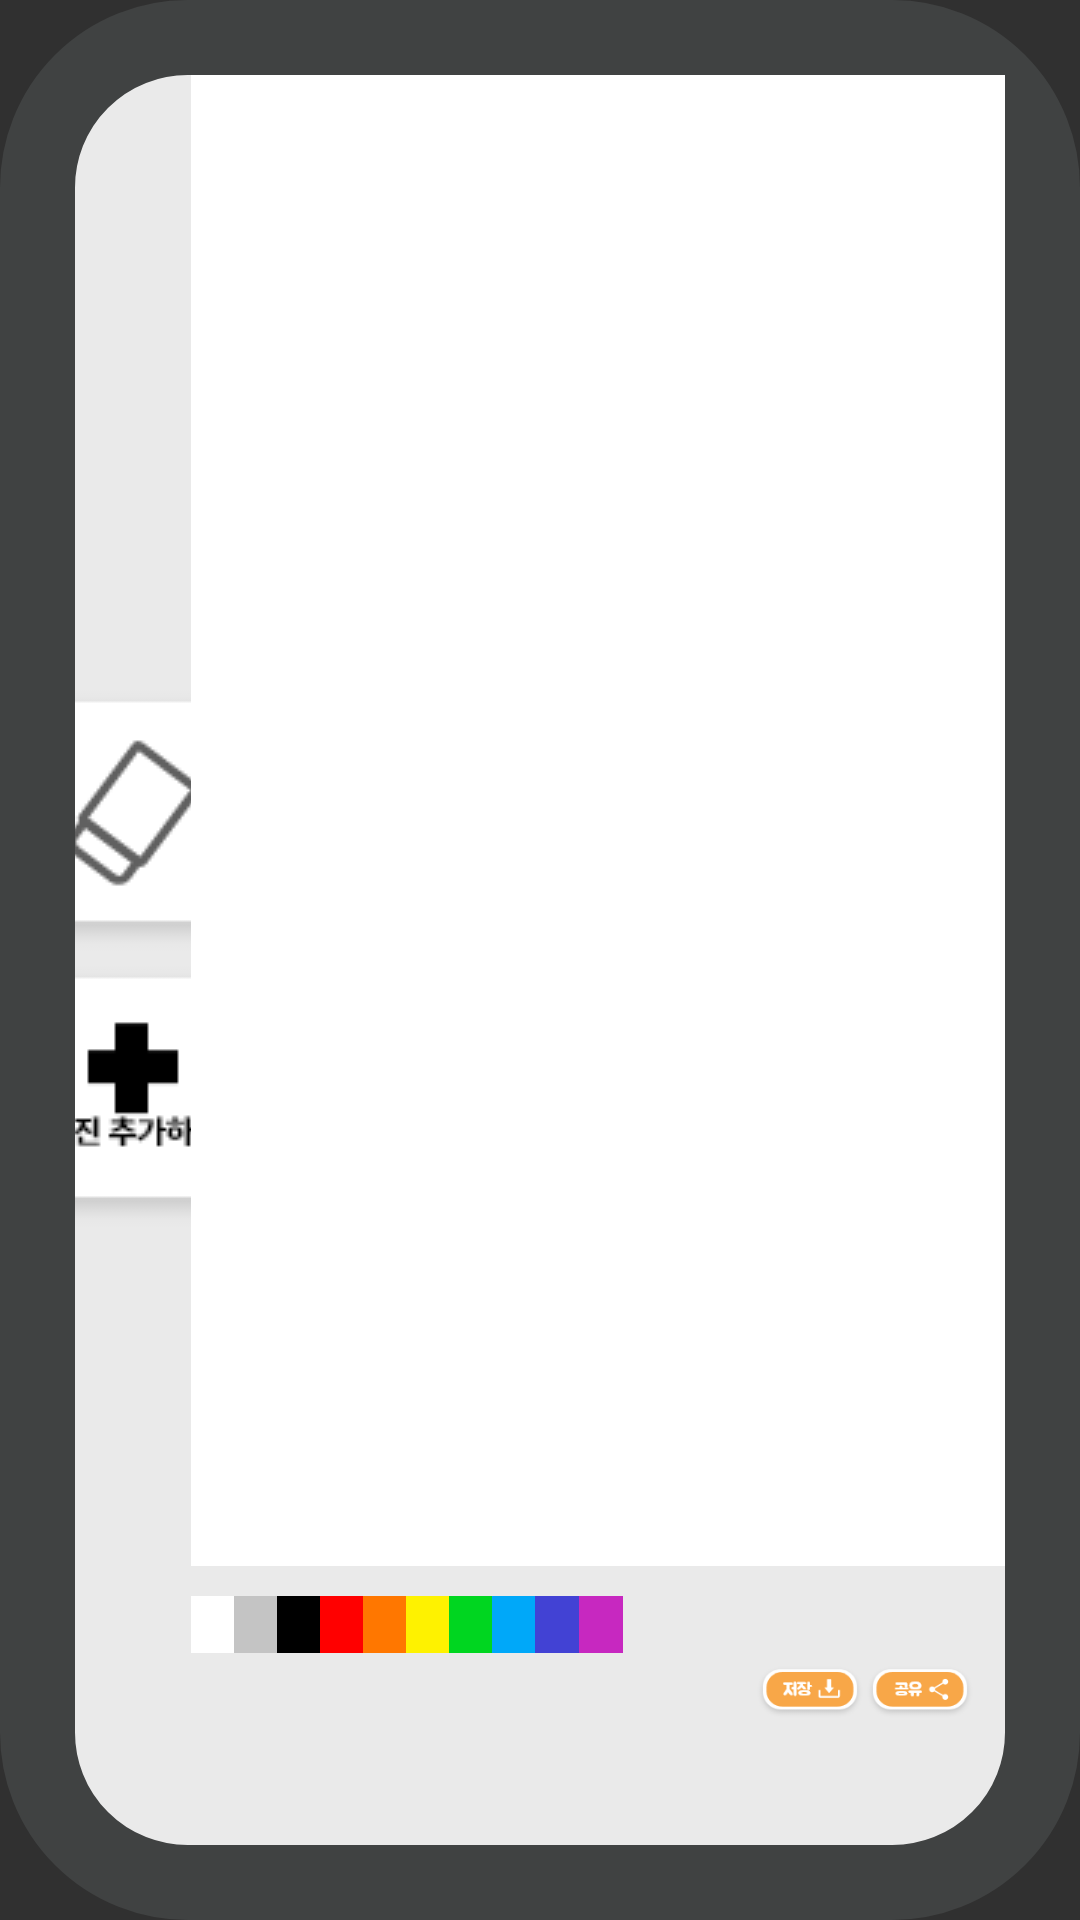

Screen size 1080px×1920px. Icon name, then its center in pixels as point (x, y):
clear: point (133, 822)
